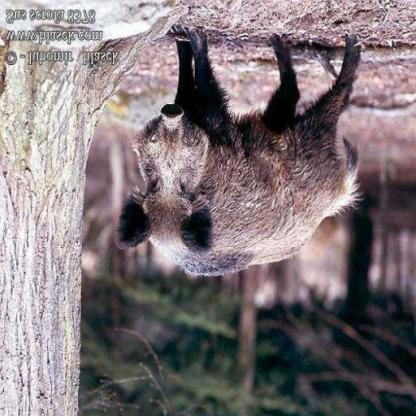boar: (98, 1, 415, 305)
